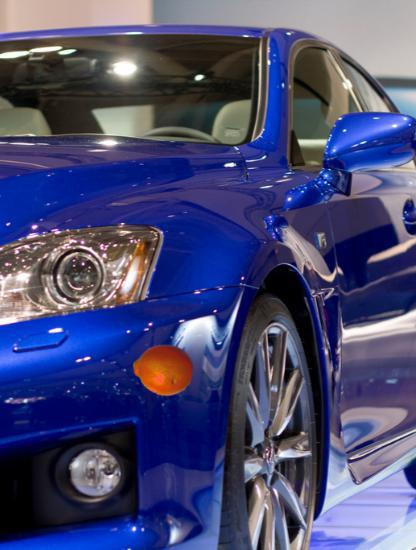Tangelo: (133, 339, 194, 400)
